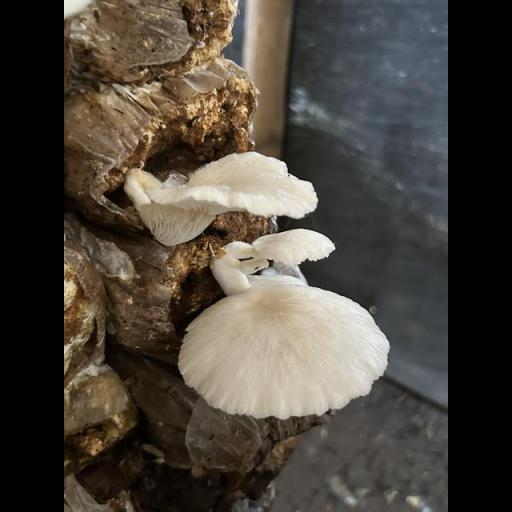White Oyster Mushroom: (175, 219, 396, 431), (108, 109, 346, 254)
